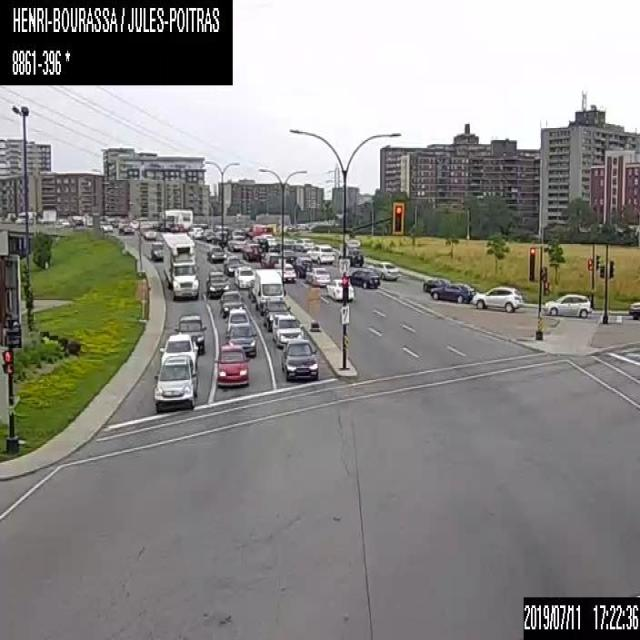bus: (160, 210, 192, 228)
vehicle: (160, 232, 199, 299), (152, 355, 196, 410), (213, 345, 250, 387), (158, 333, 198, 371), (253, 268, 286, 314), (280, 340, 317, 381), (173, 314, 206, 354), (472, 286, 522, 312), (544, 293, 592, 317), (272, 314, 304, 346), (225, 325, 256, 355), (262, 297, 290, 330), (430, 283, 473, 302), (224, 308, 252, 336), (218, 289, 244, 317), (205, 270, 229, 298), (368, 260, 399, 280), (326, 278, 353, 299), (348, 268, 379, 286), (306, 244, 334, 263), (233, 264, 254, 288), (304, 266, 329, 284), (292, 256, 312, 277), (222, 255, 242, 275), (422, 277, 450, 291), (242, 242, 262, 260), (206, 245, 225, 262), (260, 251, 280, 267), (292, 237, 313, 251), (282, 262, 296, 282), (346, 249, 362, 265), (227, 238, 246, 250), (150, 241, 162, 260), (628, 298, 639, 318), (187, 227, 203, 238), (282, 249, 296, 261), (247, 279, 255, 300), (118, 222, 134, 232), (98, 220, 112, 231), (144, 226, 156, 238), (193, 222, 207, 228)
